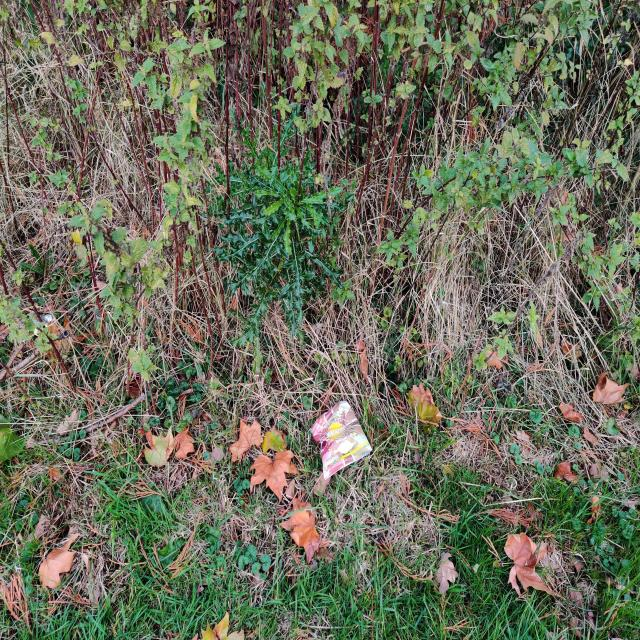litter: (310, 399, 374, 482)
